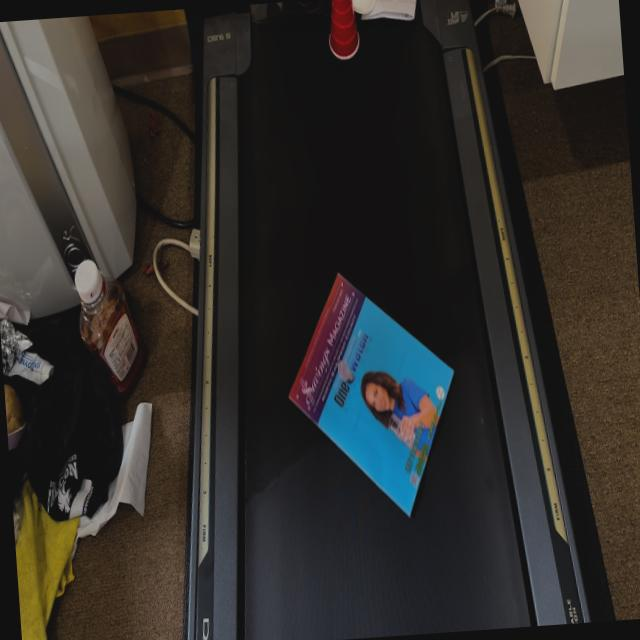Recycle: (278, 262, 464, 526), (326, 0, 362, 62)
